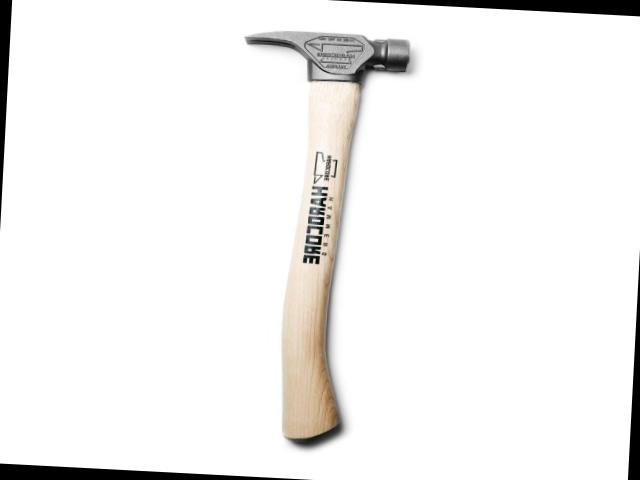hammer: (222, 27, 416, 452)
